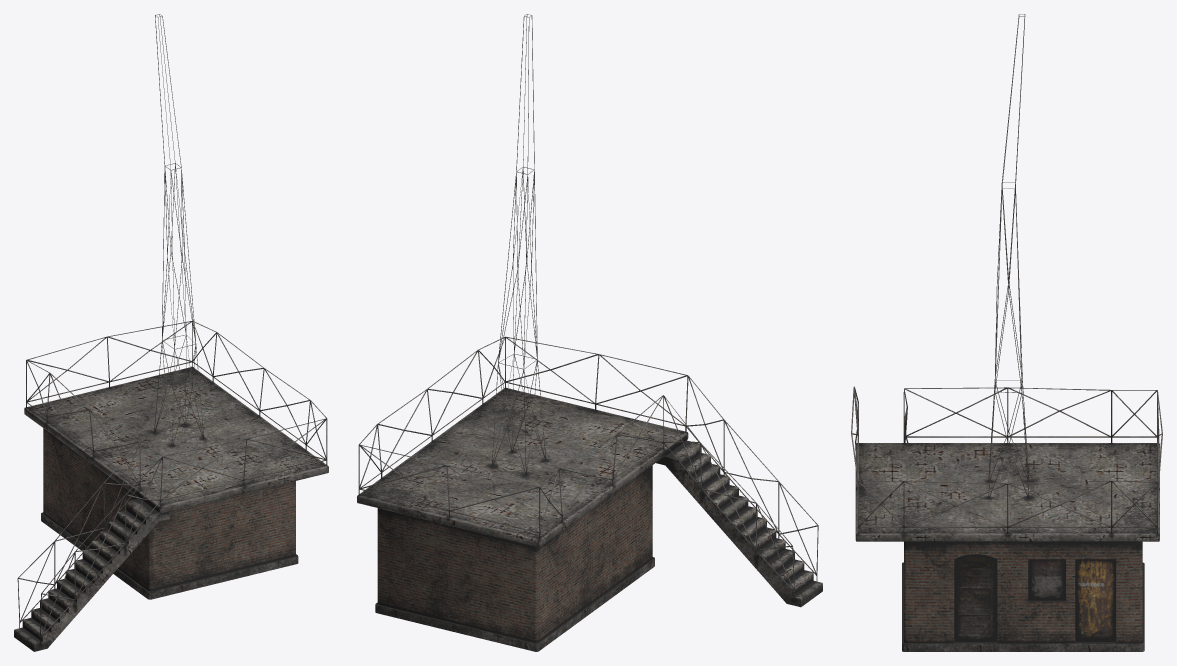
The model's file is old_soviet_radio_tower..glb.
3 renders of one model, left to right at view 1: azimuth 30°, elevation 25°; view 2: azimuth 150°, elevation 25°; view 3: azimuth 270°, elevation 25°, orthographic. The views are drawn at different scales.
Visible parts, largest first — view 1: Cube; view 2: Cube; view 3: Cube.
Boxes of the visible parts, bbox=[...] form: Cube: bbox=[14, 14, 328, 651]; Cube: bbox=[357, 14, 822, 651]; Cube: bbox=[851, 14, 1162, 651].
Bounding box in the file's own units: 797 × 1369 × 650.
Materials: 1 (1 with a texture image).
